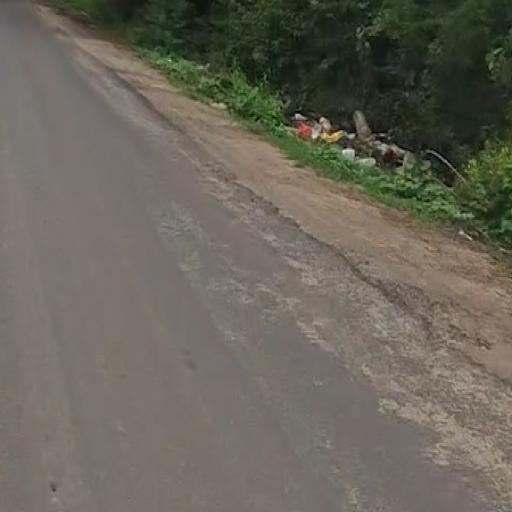edge_damage: (71, 30, 504, 449)
